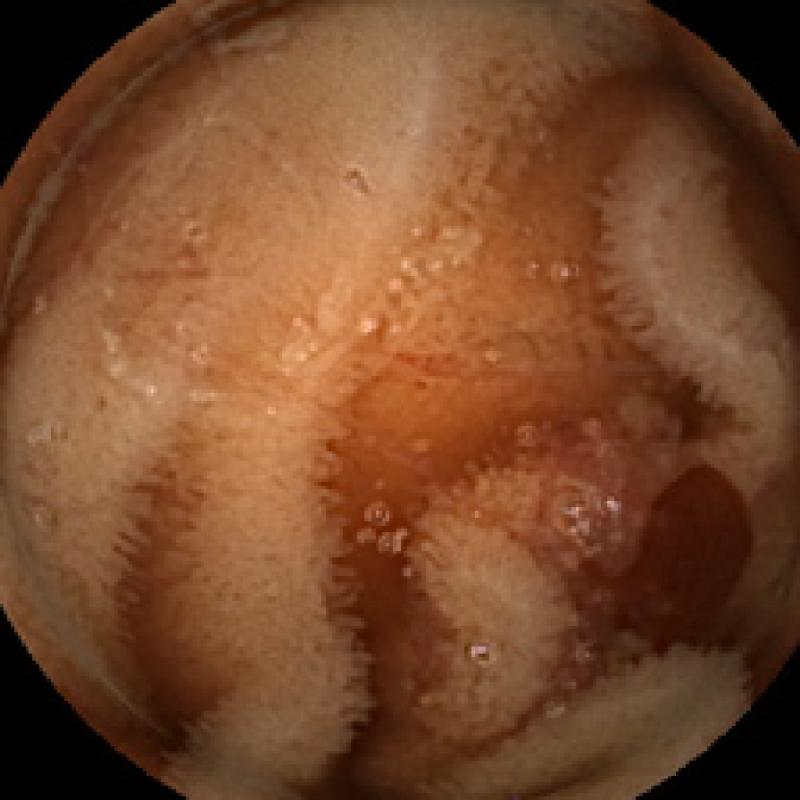bleeding: (600, 450, 768, 661)
